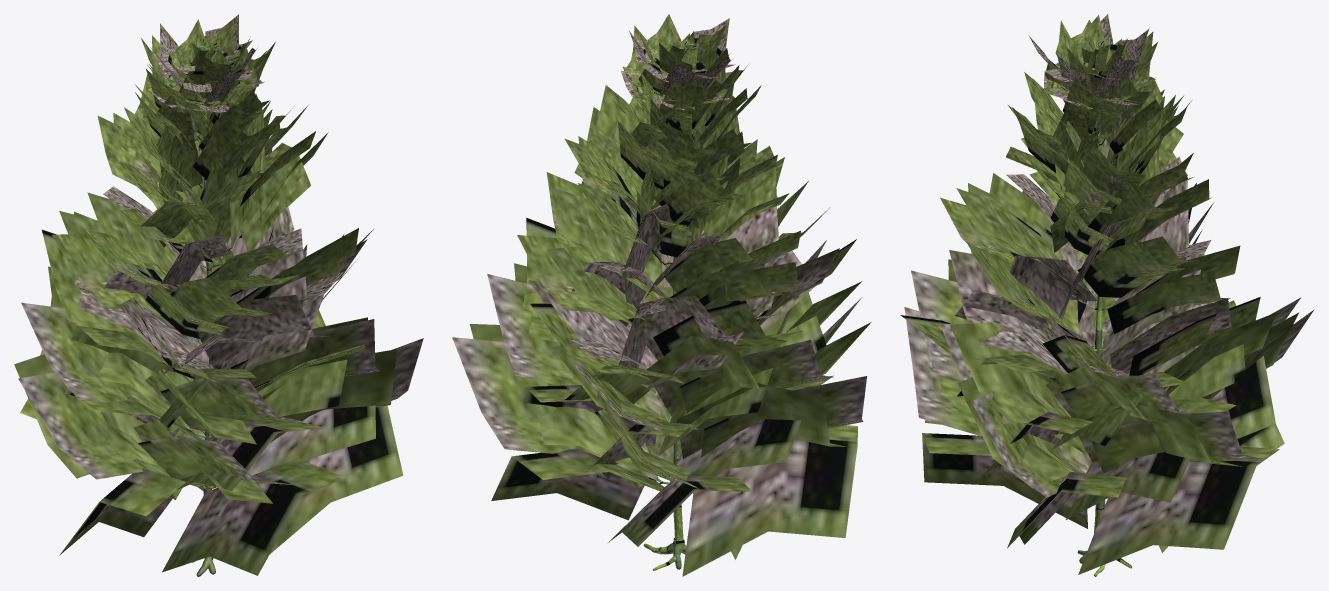
File: tree7.glb
3 views of the same model, side by side, from view 1: azimuth 30°, elevation 25°; view 2: azimuth 150°, elevation 25°; view 3: azimuth 270°, elevation 25° (orthographic).
Visible parts, largest first — view 1: Bark___S; view 2: Bark___S; view 3: Bark___S.
Boxes of the visible parts, left/top/right/bottom form: Bark___S: left=14, top=14, right=423, bottom=576; Bark___S: left=452, top=14, right=871, bottom=576; Bark___S: left=900, top=14, right=1314, bottom=576.
Size of the model in its own units: 8.88 by 12.76 by 9.02.
1 material, 1 textured.
